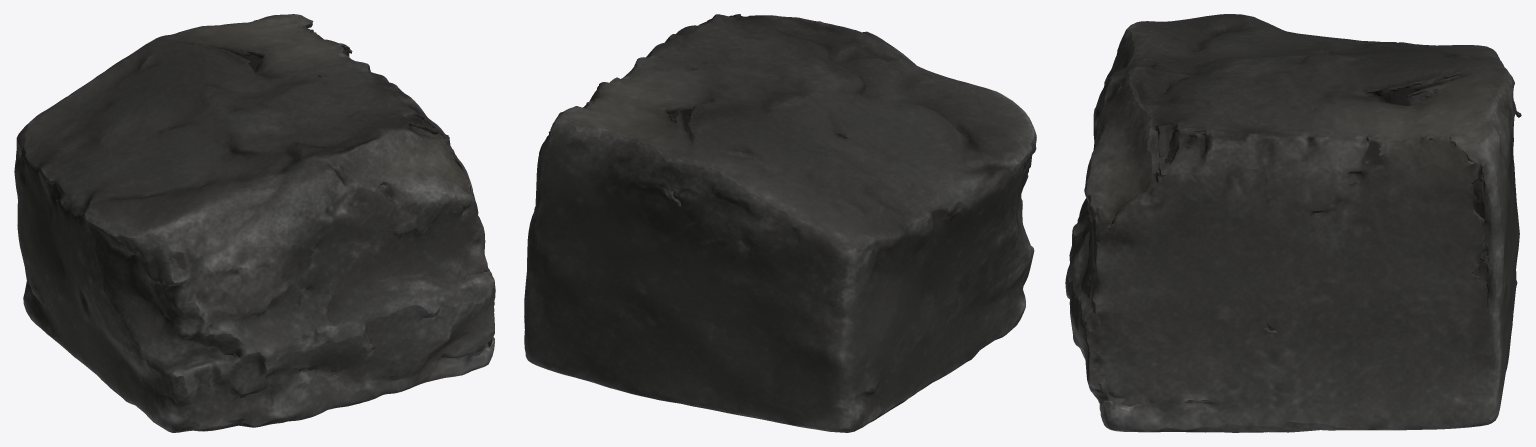
3 renders of one model, left to right at view 1: azimuth 30°, elevation 25°; view 2: azimuth 150°, elevation 25°; view 3: azimuth 270°, elevation 25°, orthographic. The views are drawn at different scales.
Parts seen in each view (by area): view 1: world; view 2: world; view 3: world.
Boxes of the visible parts, box(x1,y1,x2,y2) form: world: box(14, 14, 495, 432); world: box(524, 14, 1036, 432); world: box(1065, 14, 1521, 432).
Bounding box in the file's own units: 0.35 × 0.2364 × 0.342.
1 material, 1 textured.
